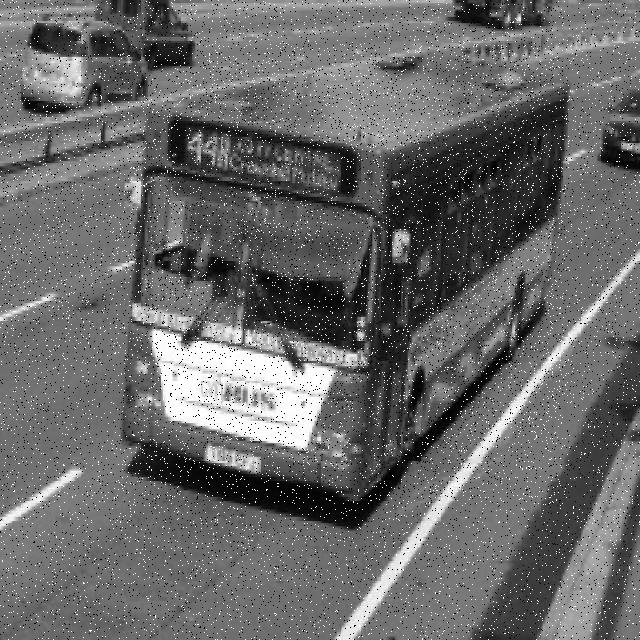Bus: (119, 44, 571, 504)
